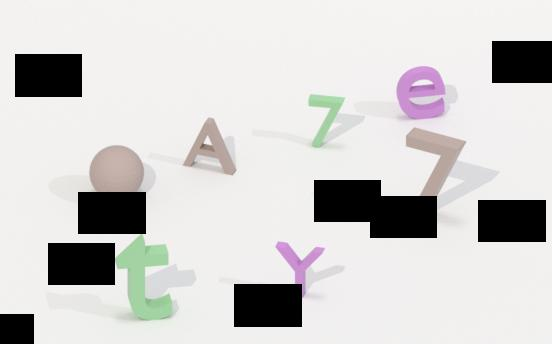7: (400, 124, 468, 221), (304, 92, 346, 153)
A-hoa: (182, 111, 239, 182)
Y-hoa: (273, 236, 328, 302)
cau: (89, 143, 146, 202)
e: (395, 63, 449, 122)
t: (112, 229, 178, 322)
